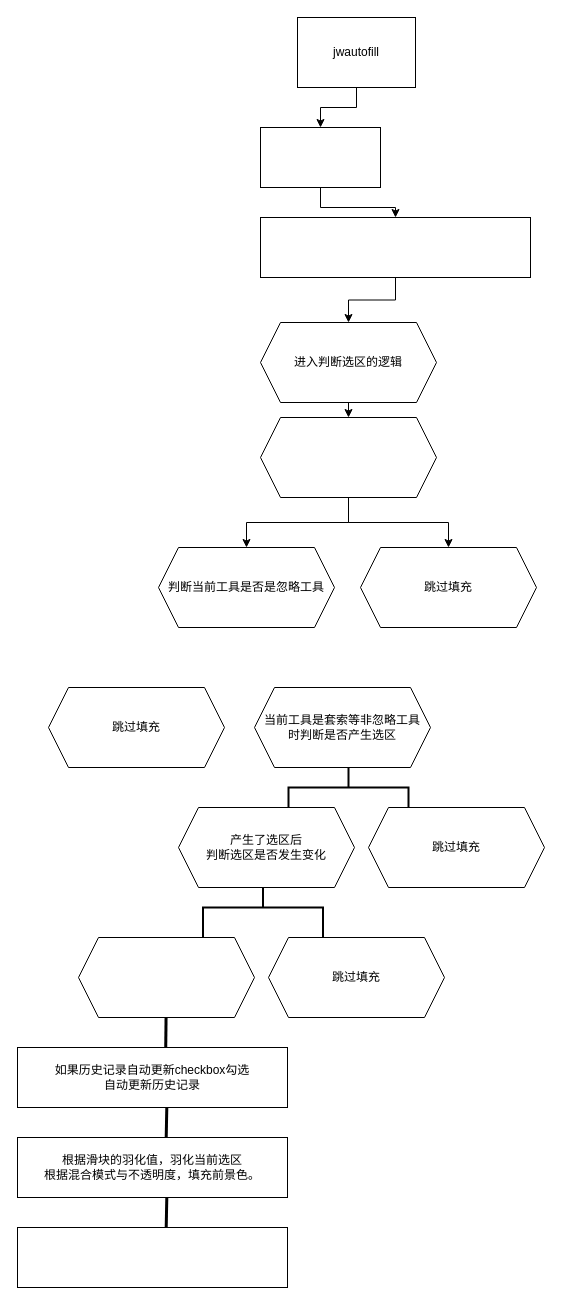
Image size: 562x1305. Some labels were removed from this diagram. Here are the shapes that lost their labels. From the top down, the centre of each, then its label:
the point at 320,157: 初始化界面
the point at 395,247: 增加选区历史记录监听，定义函数
the point at 348,457: 是否有文档打开
the point at 166,977: 选区变化自动填充
the point at 152,1257: 如果勾选填充后取消选区，填充后自动取消选区
